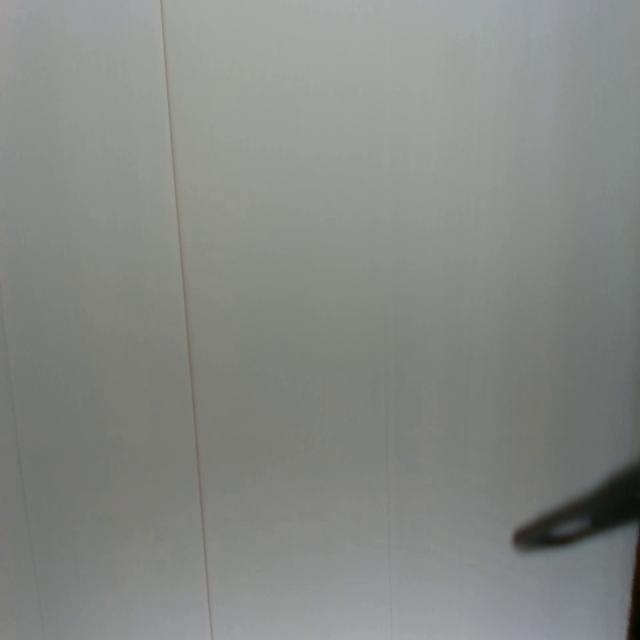crease: (159, 0, 214, 638), (0, 278, 44, 640), (383, 403, 395, 640)
